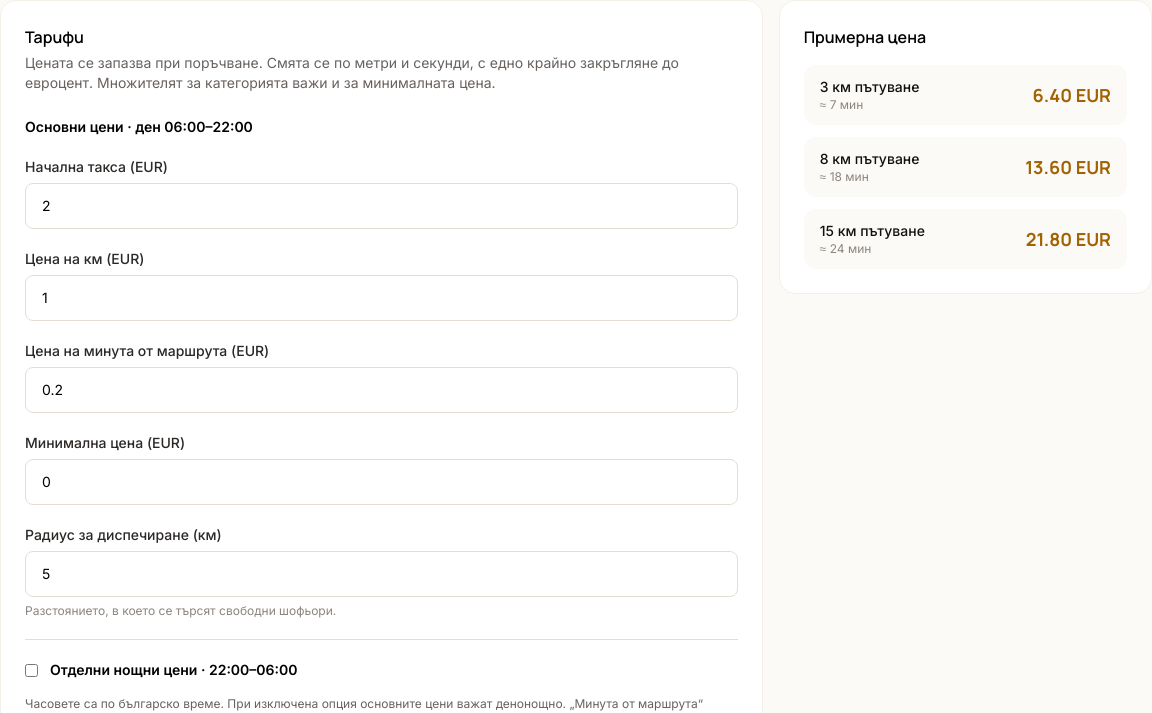
does not silently replace a newer tariff version from another panel
Replace the text in the number field labelled "Цена на км (EUR)" with "1.5" at (381, 298), box [25, 275, 738, 321]
(page scrolled)
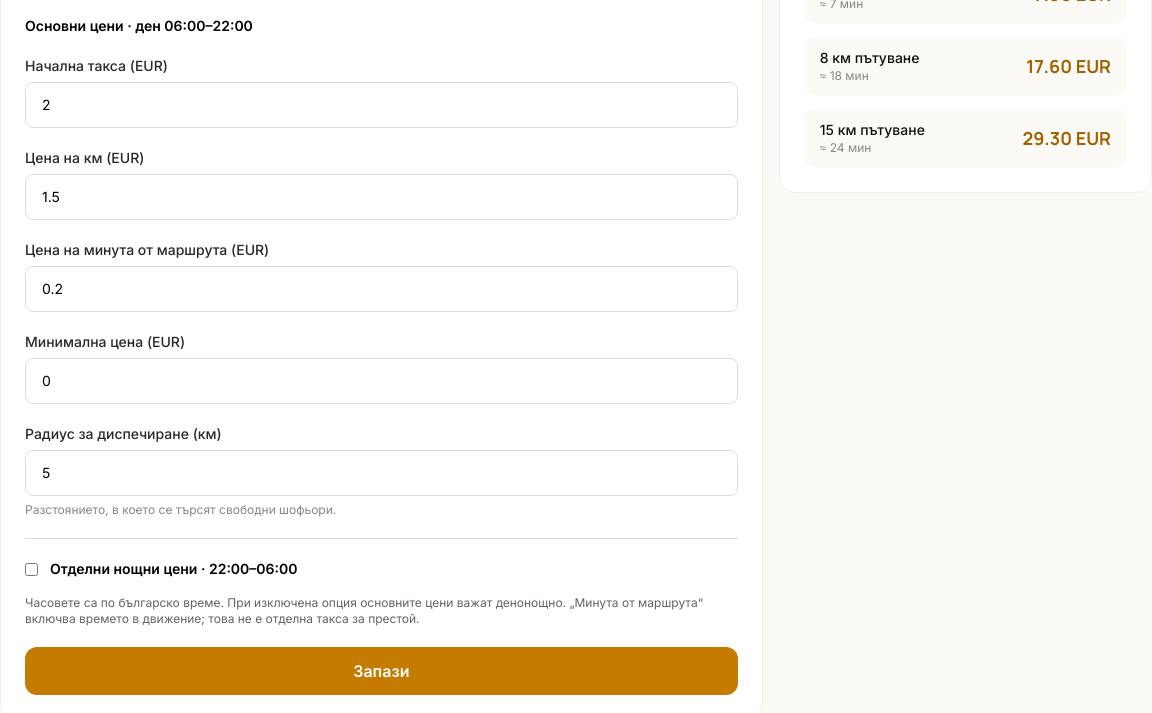
Click the button "Запази" at (381, 671), box [25, 647, 738, 695]
(page scrolled)
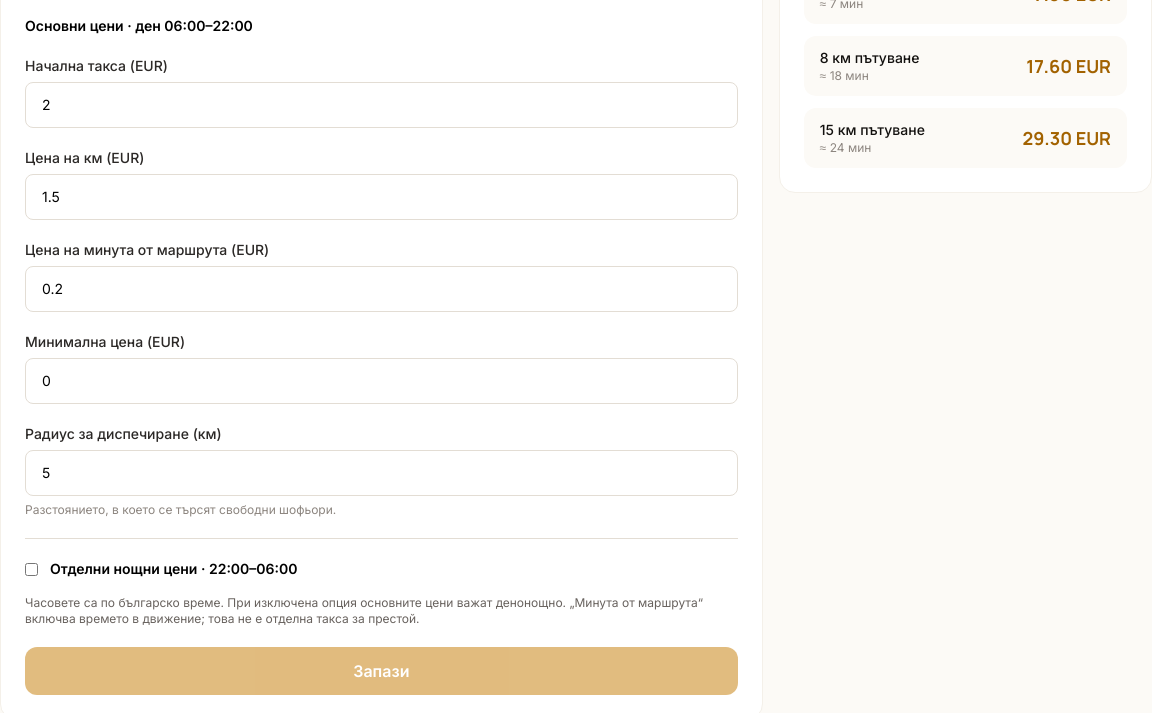
Result: the button "Запази" is disabled
Click the button "Запази" at (381, 671), box [25, 647, 738, 695]
(page scrolled)
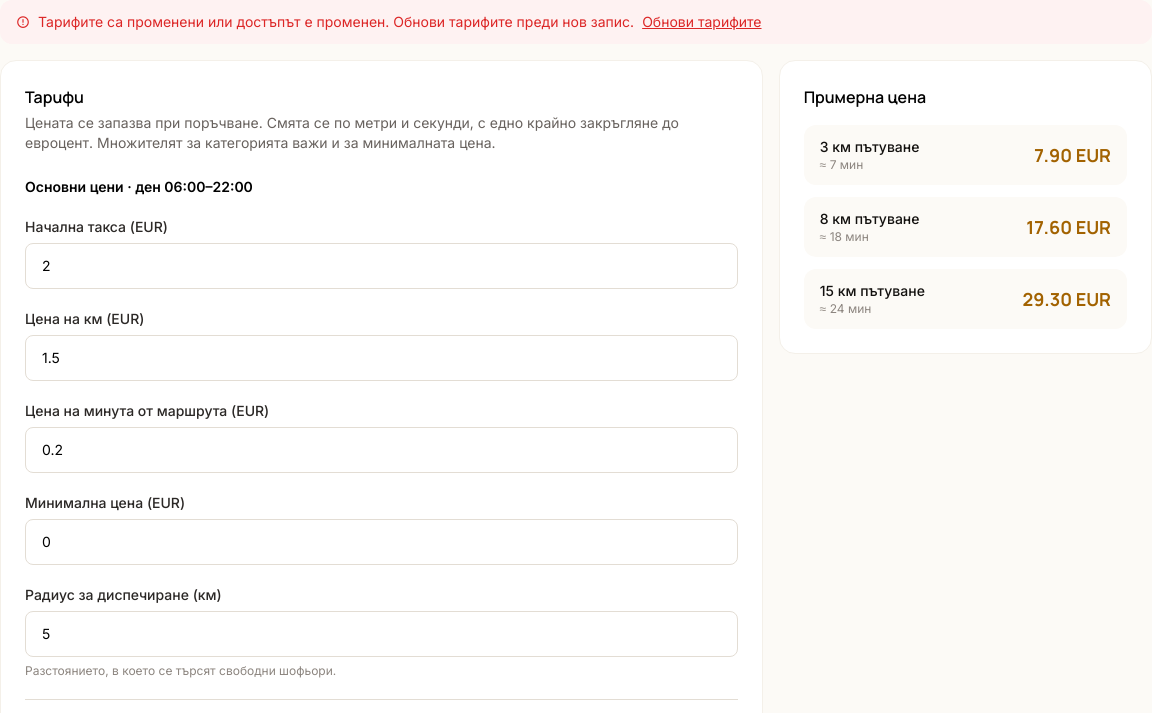
Click the button "Обнови тарифите" at (702, 22), box [642, 12, 762, 32]
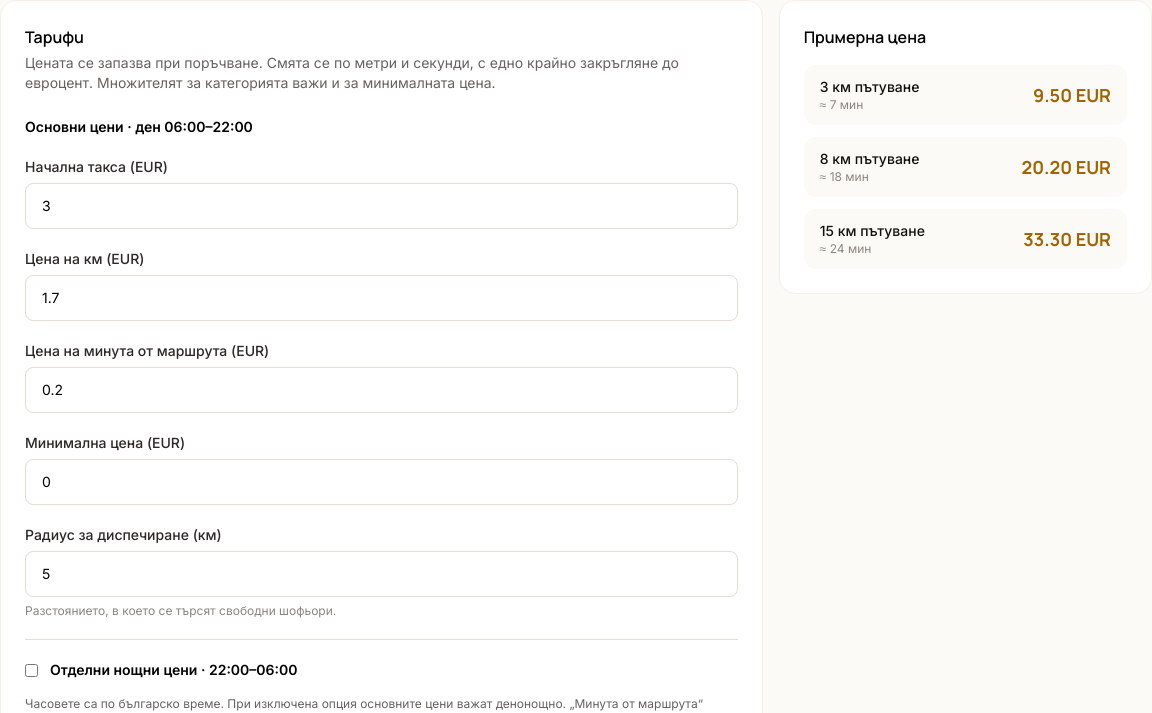
Result: the number field labelled "Цена на км (EUR)" holds "1.7" at [25, 275, 738, 321]
